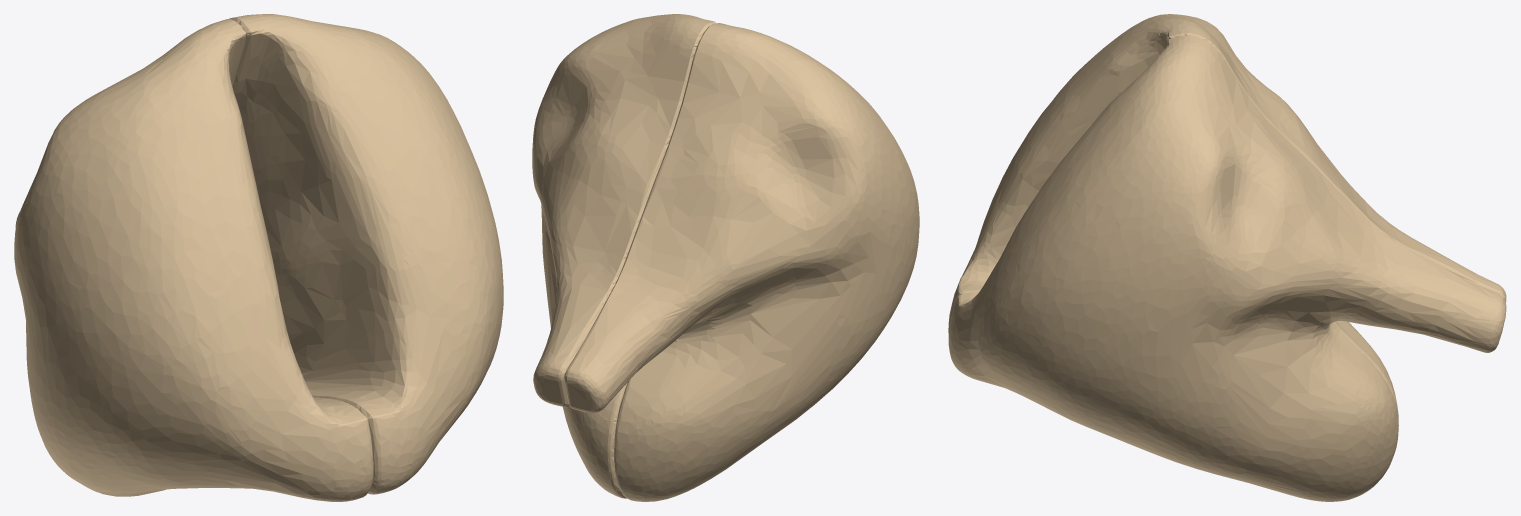
Rendered from hypothalamus.glb.
3 renders of one model, left to right at view 1: azimuth 30°, elevation 25°; view 2: azimuth 150°, elevation 25°; view 3: azimuth 270°, elevation 25°, orthographic. The views are drawn at different scales.
Visible parts, largest first — view 1: world; view 2: world; view 3: world.
Part boxes in pixels (box(x1,y1,x2,y2)): world: box(14, 14, 503, 501); world: box(532, 14, 919, 501); world: box(948, 14, 1506, 501).
Size of the model in its own units: 0.9893 by 1.16 by 1.29.
